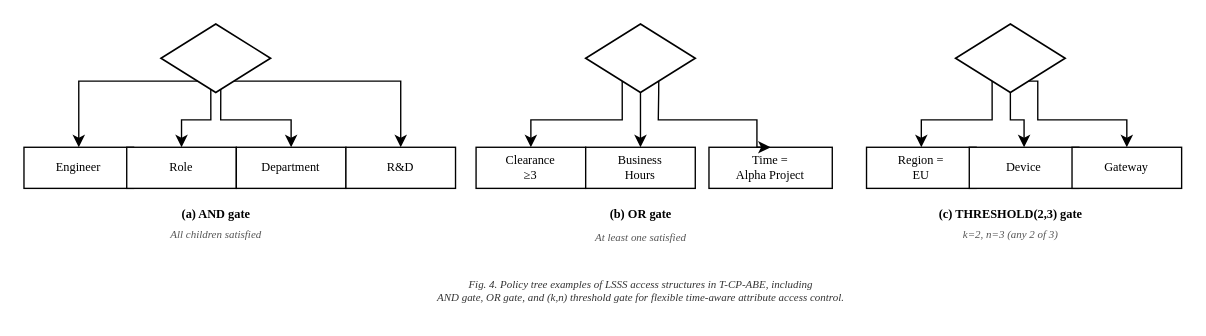
Image size: 1206x336. Some labels were removed from this diagram. The shapes that lost their labels are listed below. From the top down, each one's box as (x1, y1, x2, y2) in pixels, then its label:
(159, 22, 271, 93): AND
(584, 22, 695, 93): OR
(954, 22, 1065, 93): 2-of-3
